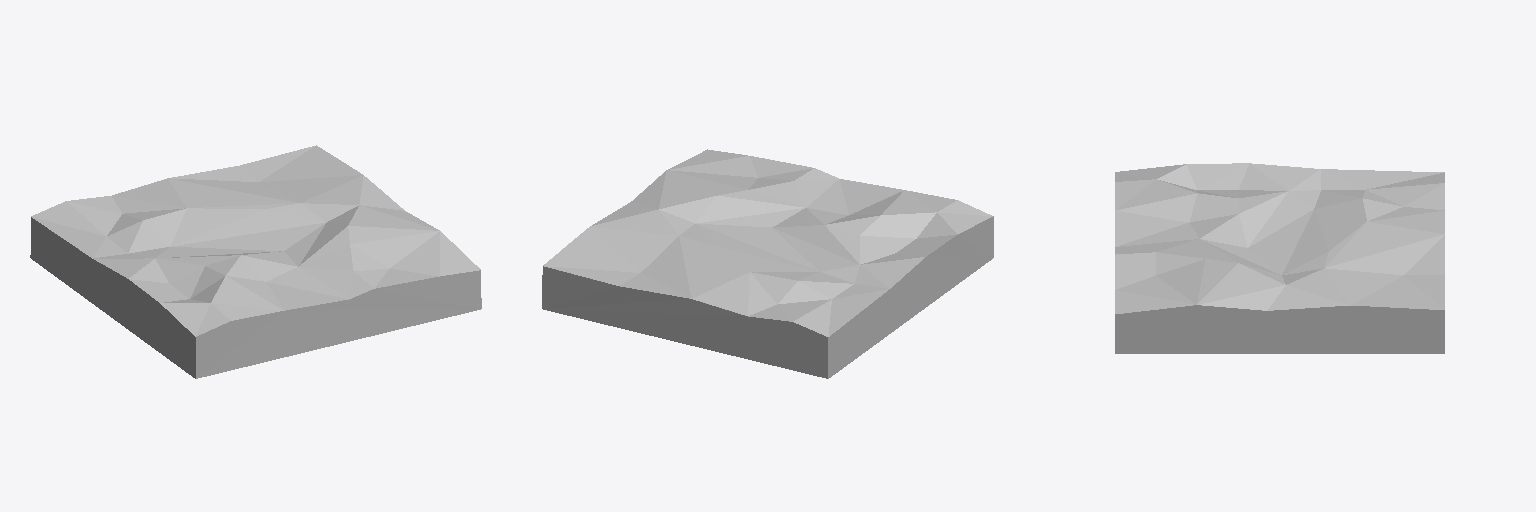
Rendered from gmtk_02.obj.
The picture shows the model from 3 angles: view 1: azimuth 30°, elevation 25°; view 2: azimuth 150°, elevation 25°; view 3: azimuth 270°, elevation 25°; orthographic projection.
Parts seen in each view (by area): view 1: Plane; view 2: Plane; view 3: Plane.
Part boxes in pixels (bbox=[...]): Plane: bbox=[30, 145, 481, 378]; Plane: bbox=[542, 149, 993, 378]; Plane: bbox=[1115, 163, 1444, 353].
Size of the model in its own units: 2 by 0.3725 by 2.